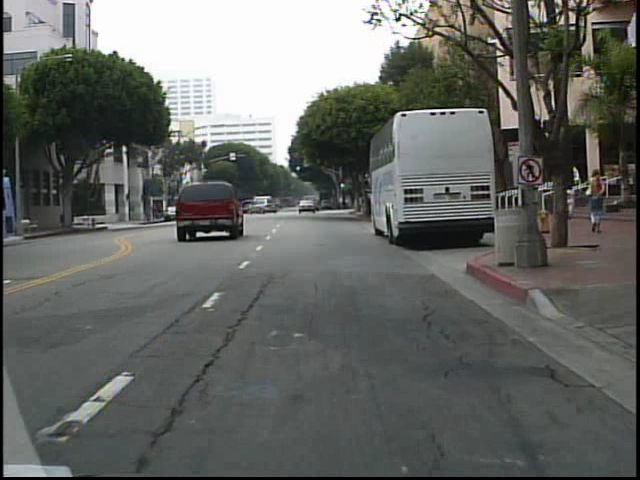person: (582, 167, 611, 238)
